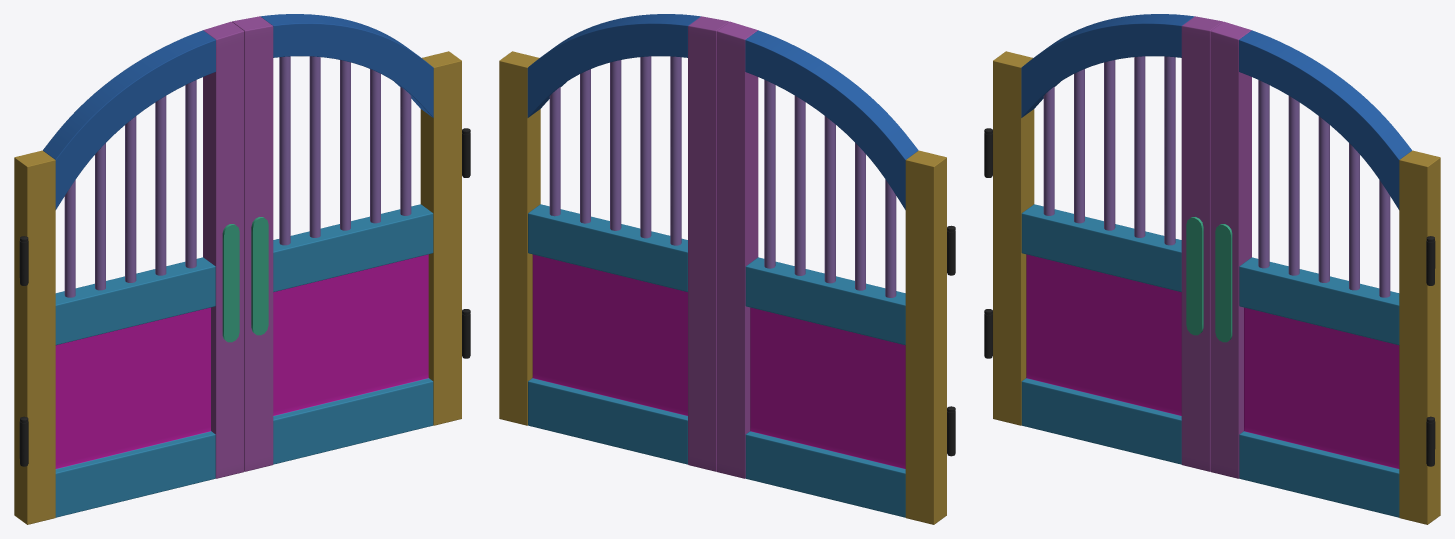
File: Western Door.fbx
3 views of the same model, side by side, from view 1: azimuth 30°, elevation 25°; view 2: azimuth 150°, elevation 25°; view 3: azimuth 330°, elevation 25° (orthographic).
Visible parts, largest first — view 1: Western Door Low Poly; view 2: Western Door Low Poly; view 3: Western Door Low Poly.
Boxes of the visible parts, bbox=[...] form: Western Door Low Poly: bbox=[14, 14, 470, 524]; Western Door Low Poly: bbox=[499, 14, 955, 524]; Western Door Low Poly: bbox=[984, 14, 1440, 524].
Bounding box in the file's own units: 158 × 148 × 9.68.
